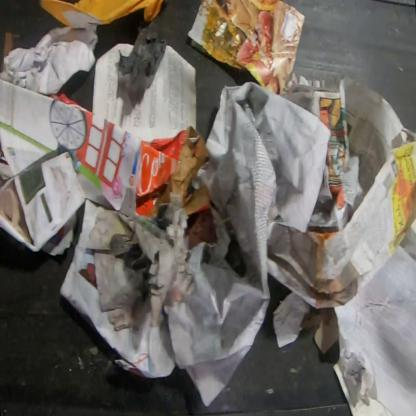cardboard: (132, 125, 218, 249), (38, 0, 168, 29), (301, 305, 339, 356)
soft_plastic: (116, 22, 168, 80)
